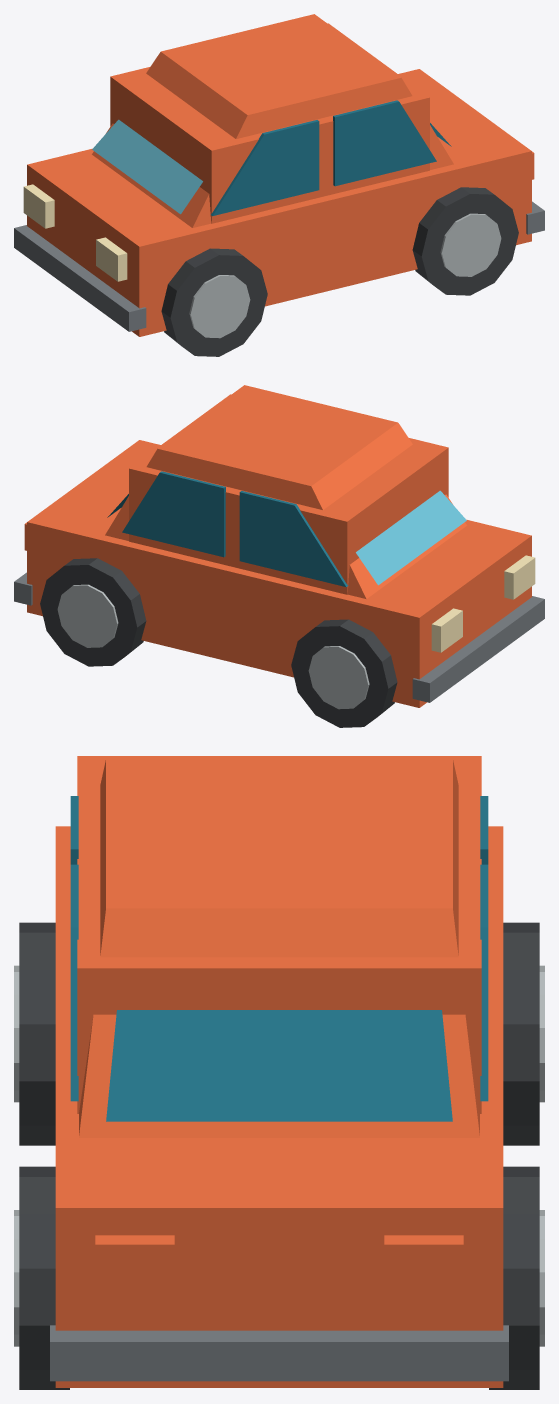
The model's file is Car_Red.glb.
3 views of the same model, one above another, from view 1: azimuth 30°, elevation 25°; view 2: azimuth 150°, elevation 25°; view 3: azimuth 270°, elevation 25° (orthographic). The views are drawn at different scales.
Visible parts, largest first — view 1: Car_Red; view 2: Car_Red; view 3: Car_Red.
Boxes of the visible parts, x1,y1,x2,y2 form: Car_Red: (14,14,544,356); Car_Red: (14,385,544,727); Car_Red: (14,756,544,1389).
Size of the model in its own units: 2.66 by 1.3 by 1.47.
